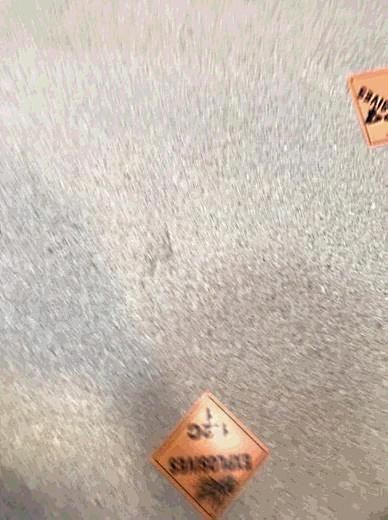explosive: (151, 391, 274, 519), (346, 70, 388, 148)
